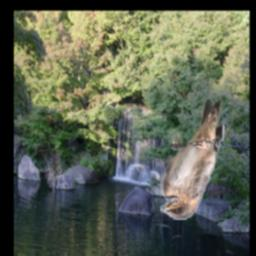Swallow: (160, 99, 228, 221)
